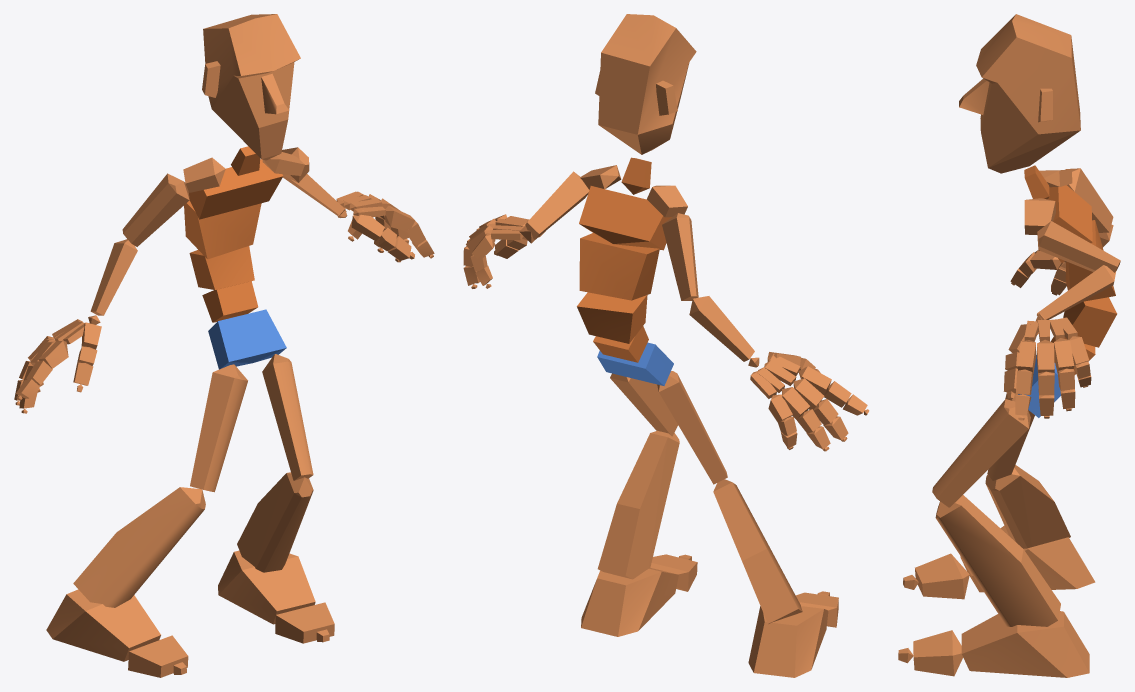
File: prueba81.obj
3 renders of one model, left to right at view 1: azimuth 30°, elevation 25°; view 2: azimuth 150°, elevation 25°; view 3: azimuth 270°, elevation 25°, orthographic. The views are drawn at different scales.
Visible parts, largest first — view 1: BOPED_Head, BOPED_R_leg, BOPED_R_foot, BOPED_L_leg, BOPED_R_foot01, BOPED_R_legup, BOPED_L_legup, Bone01, Bone04, Bone05, BOPED_R_arm_upper, Bone03 (+7 smaller); view 2: BOPED_Head, BOPED_L_leg, BOPED_R_leg, BOPED_R_foot01, BOPED_R_foot, Bone04, Bone05, Bone03, BOPED_R_legup, BOPED_R_arm_upper, BOPED_L_legup, Bone01 (+8 smaller); view 3: BOPED_Head, BOPED_L_leg, BOPED_R_foot01, BOPED_R_leg, BOPED_L_legup, BOPED_R_foot, BOPED_L_arm_upper, BOPED_R_foot_toe01, BOPED_R_foot_toe04, Bone03, Bone05, BOPED_L_arm_fore (+15 smaller).
Part boxes in pixels (left/top/right/bottom): BOPED_Head: left=202, top=14, right=300, bottom=160; BOPED_R_leg: left=73, top=487, right=205, bottom=607; BOPED_R_foot: left=46, top=589, right=160, bottom=661; BOPED_L_leg: left=237, top=472, right=313, bottom=572; BOPED_R_foot01: left=218, top=550, right=315, bottom=624; BOPED_R_legup: left=190, top=364, right=247, bottom=492; BOPED_L_legup: left=262, top=354, right=313, bottom=480; Bone01: left=208, top=309, right=286, bottom=369; Bone04: left=184, top=200, right=261, bottom=259; Bone05: left=188, top=159, right=283, bottom=219; BOPED_R_arm_upper: left=122, top=173, right=189, bottom=246; Bone03: left=189, top=246, right=254, bottom=289; BOPED_Head: left=595, top=14, right=696, bottom=154; BOPED_L_leg: left=597, top=430, right=679, bottom=579; BOPED_R_leg: left=713, top=479, right=802, bottom=623; BOPED_R_foot01: left=581, top=568, right=678, bottom=636; BOPED_R_foot: left=748, top=606, right=828, bottom=677; Bone04: left=579, top=233, right=659, bottom=300; Bone05: left=579, top=186, right=671, bottom=250; Bone03: left=577, top=292, right=647, bottom=343; BOPED_R_legup: left=657, top=371, right=727, bottom=484; BOPED_R_arm_upper: left=662, top=213, right=698, bottom=300; BOPED_L_legup: left=610, top=373, right=677, bottom=436; Bone01: left=597, top=342, right=673, bottom=385; BOPED_Head: left=959, top=14, right=1080, bottom=173; BOPED_L_leg: left=935, top=495, right=1060, bottom=626; BOPED_R_foot01: left=961, top=611, right=1089, bottom=677; BOPED_R_leg: left=985, top=465, right=1070, bottom=548; BOPED_L_legup: left=932, top=399, right=1030, bottom=507; BOPED_R_foot: left=960, top=525, right=1095, bottom=592; BOPED_L_arm_upper: left=1037, top=221, right=1120, bottom=272; BOPED_R_foot_toe01: left=915, top=553, right=969, bottom=599; BOPED_R_foot_toe04: left=913, top=630, right=962, bottom=676; Bone03: left=1063, top=297, right=1117, bottom=347; Bone05: left=1048, top=185, right=1092, bottom=263; BOPED_L_arm_fore: left=1037, top=265, right=1116, bottom=319.
Size of the model in its own units: 130 by 180 by 57.36.
